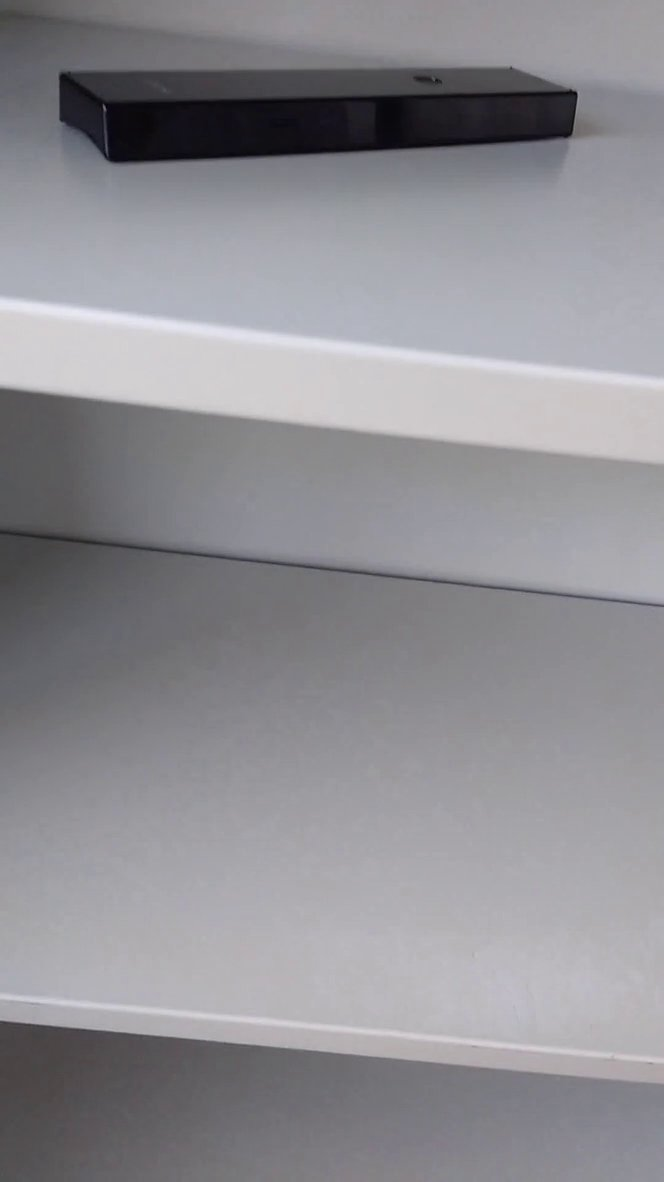remote: (52, 48, 585, 179)
